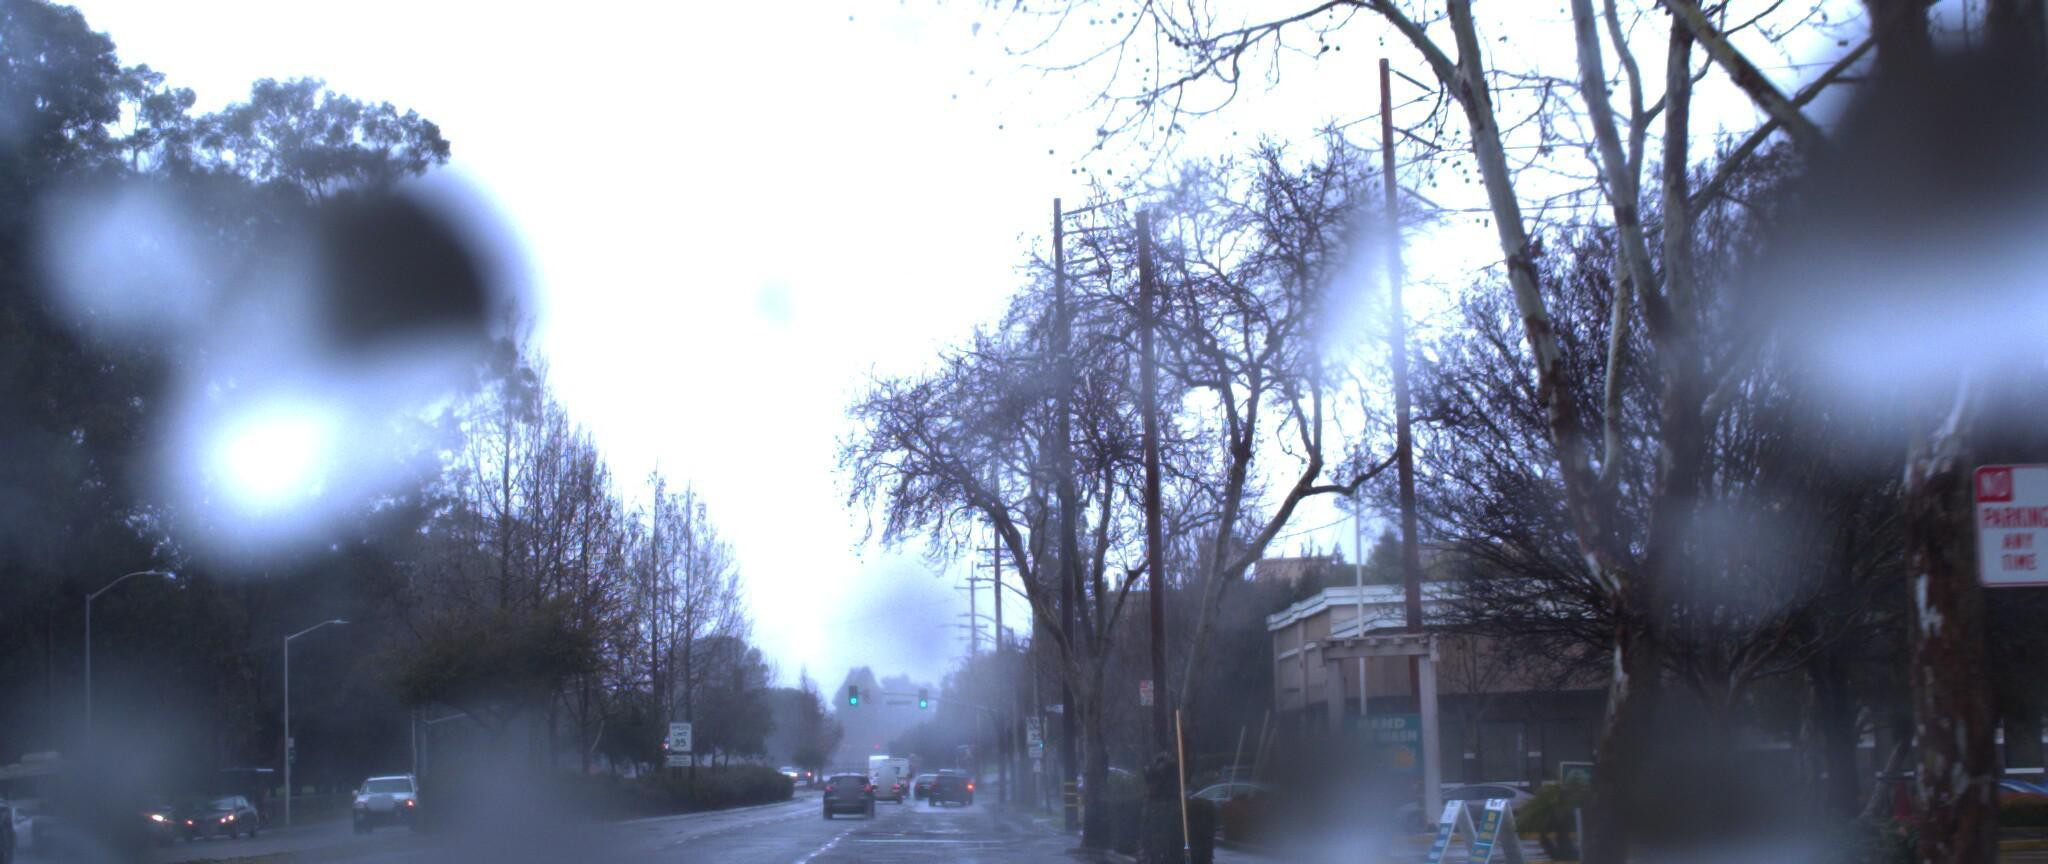car: (0, 760, 30, 864)
